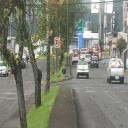NoVirarU: (54, 35, 62, 50)
